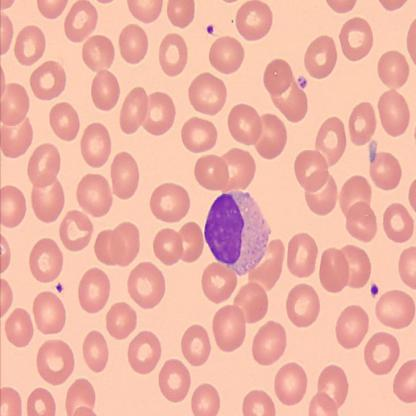Lymphocyte: (204, 189, 273, 277)
